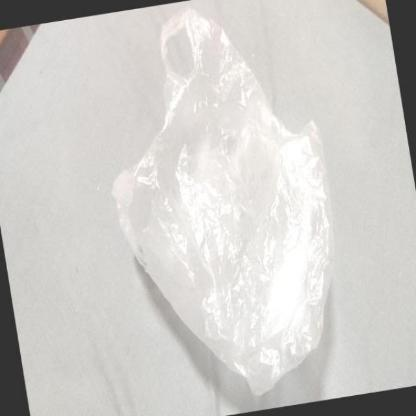Plastic Bag: (110, 7, 334, 396)
